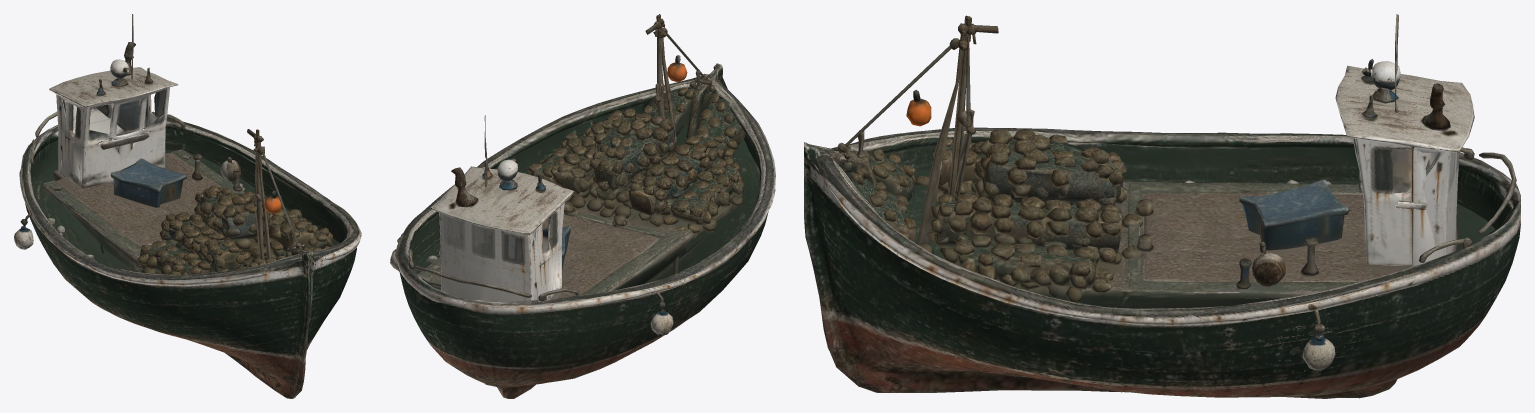
File: fishing_boat.glb
3 views of the same model, side by side, from view 1: azimuth 30°, elevation 25°; view 2: azimuth 150°, elevation 25°; view 3: azimuth 270°, elevation 25° (orthographic). The views are drawn at different scales.
Parts seen in each view (by area): view 1: Mesh_0; view 2: Mesh_0; view 3: Mesh_0.
Boxes of the visible parts, x1,y1,x2,y2 form: Mesh_0: (14, 14, 361, 398); Mesh_0: (390, 14, 775, 398); Mesh_0: (804, 14, 1520, 398).
Size of the model in its own units: 4.02 by 3.96 by 6.5.
1 material, 1 textured.
